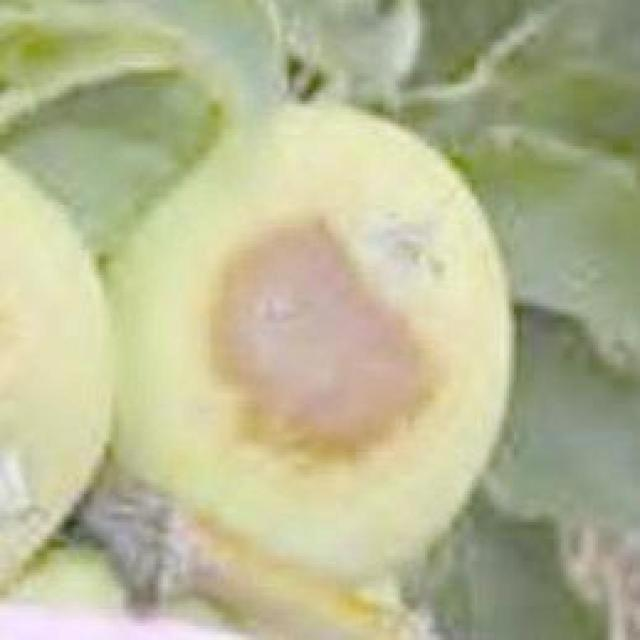Sunscald Fruit: (129, 137, 307, 313)
